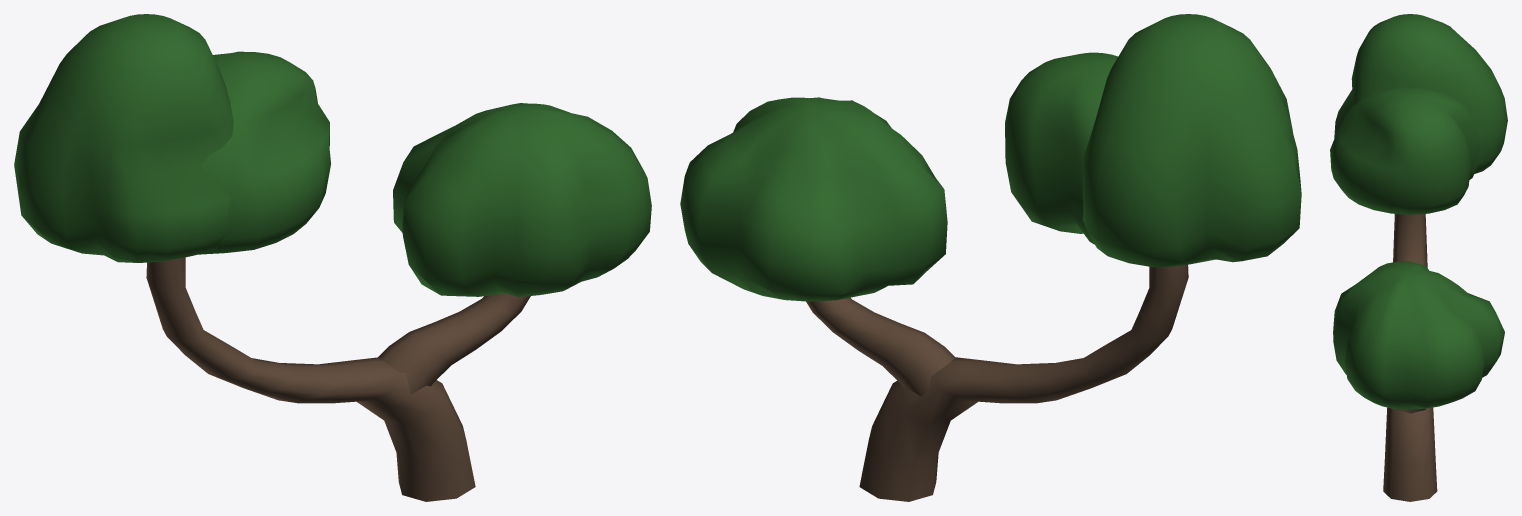
The model's file is bush-2.fbx.
3 renders of one model, left to right at view 1: azimuth 30°, elevation 25°; view 2: azimuth 150°, elevation 25°; view 3: azimuth 270°, elevation 25°, orthographic. The views are drawn at different scales.
Visible parts, largest first — view 1: Sphere.001, Leaves, Trunk, Sphere, Trunk.001; view 2: Sphere.001, Leaves, Trunk, Sphere, Trunk.001; view 3: Leaves, Sphere, Sphere.001, Trunk.
Part boxes in pixels (box(x1,y1,x2,y2)): Sphere.001: box(14, 14, 233, 262); Leaves: box(393, 103, 651, 297); Trunk: box(146, 257, 475, 501); Sphere: box(198, 51, 330, 254); Trunk.001: box(378, 293, 530, 394); Sphere.001: box(1082, 14, 1301, 267); Leaves: box(680, 97, 947, 301); Trunk: box(859, 265, 1188, 501); Sphere: box(1005, 52, 1117, 244); Trunk.001: box(806, 297, 955, 396); Leaves: box(1333, 261, 1504, 409); Sphere: box(1330, 88, 1480, 214); Sphere.001: box(1334, 14, 1507, 173); Trunk: box(1383, 214, 1437, 501).
Size of the model in its own units: 89.72 by 75.96 by 32.86.
